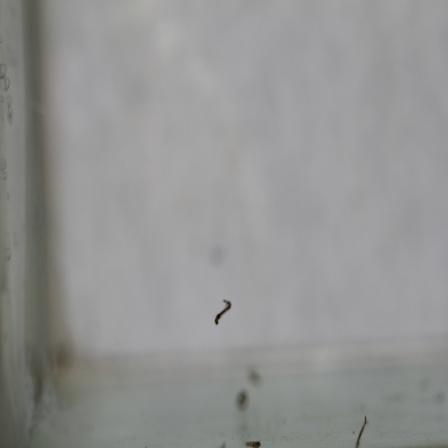Jentik-Nyamuk: (212, 297, 235, 325)
